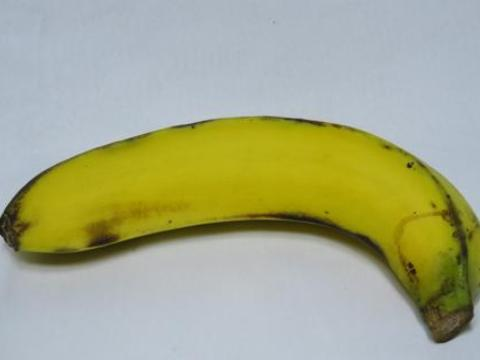freshripe: (0, 101, 479, 346)
